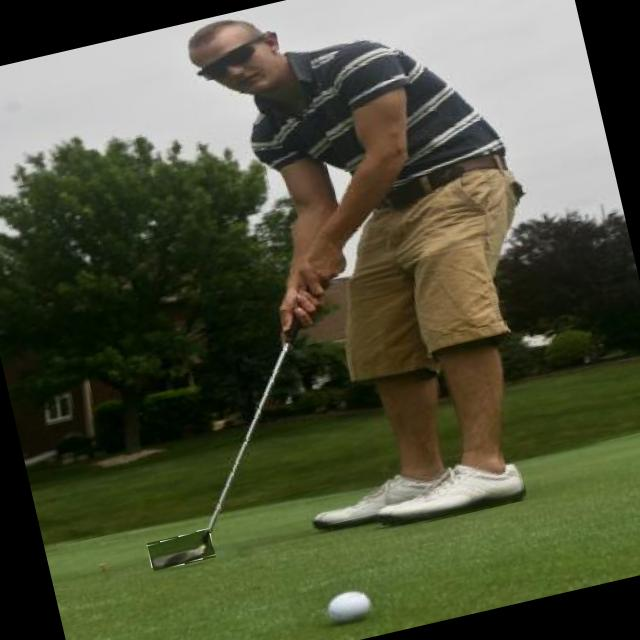club head: (147, 528, 216, 571)
